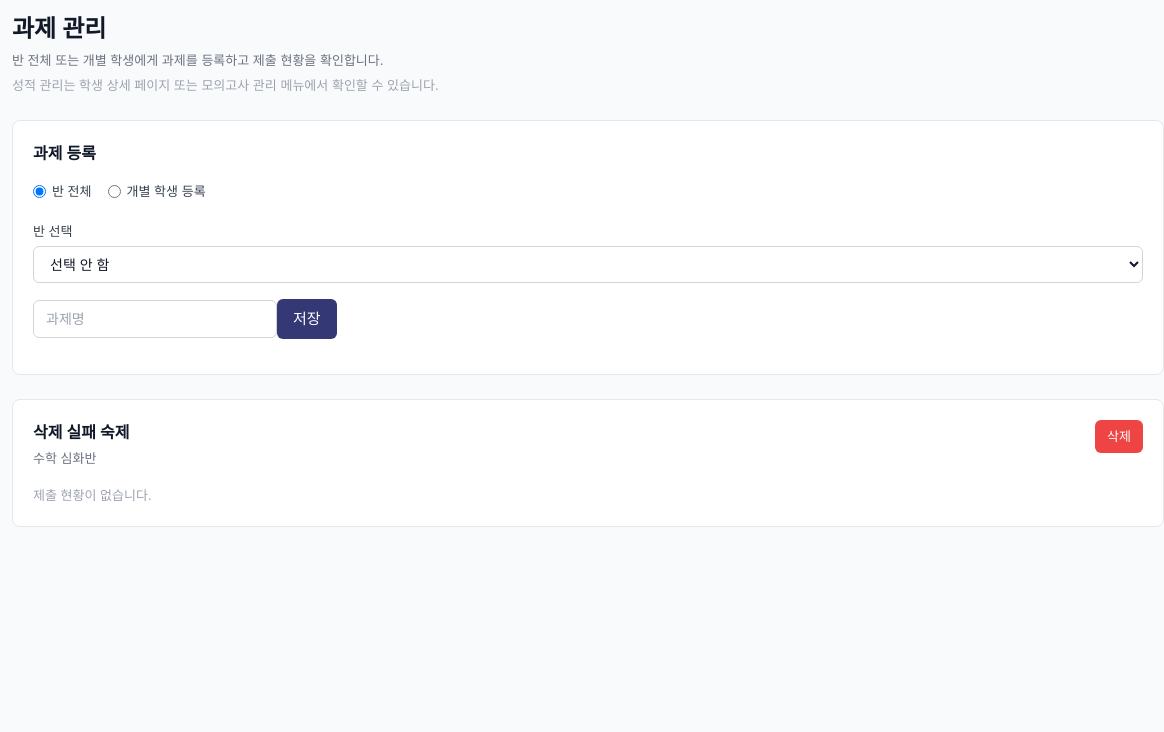
Scenario: 과제 관리 페이지 › apiClient.delete가 실패하면 에러가 표시되고 목록에서 항목이 사라지지 않는다
The image size is (1164, 732).
Expected: the heading "삭제 실패 숙제" is shown, [33,420,129,444]
Click the button "삭제" at (1119, 436), box [1095,420,1143,453]
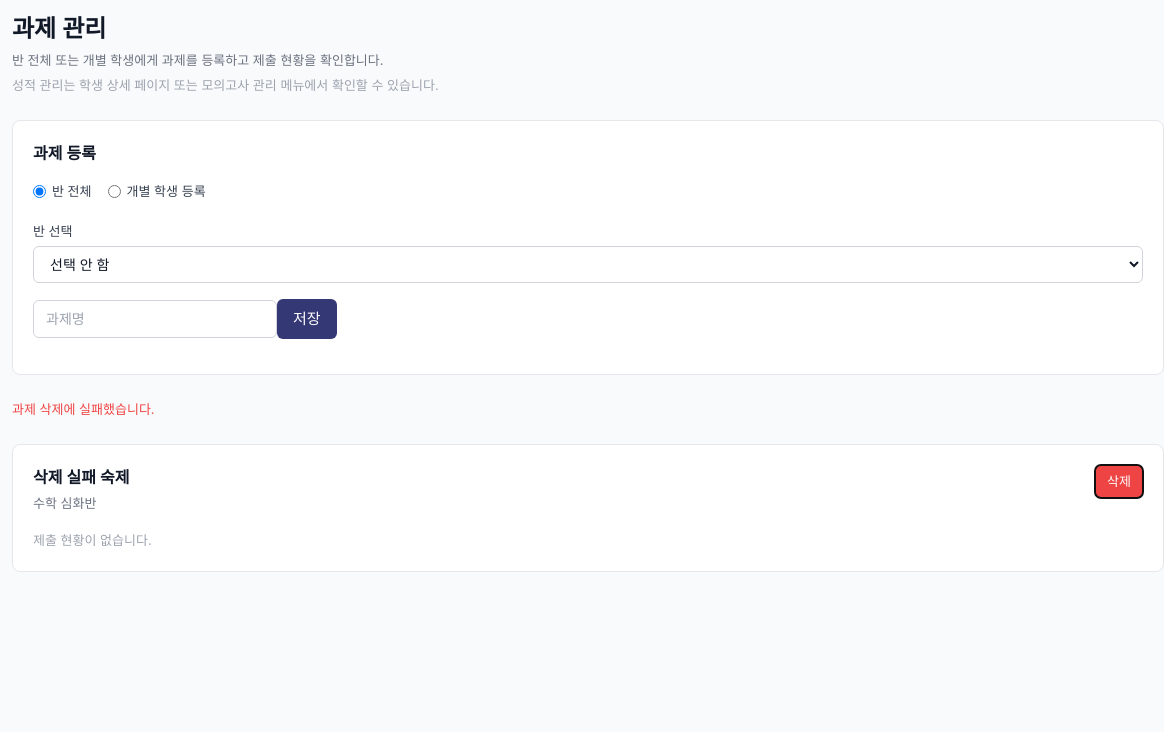
Expected: the heading "삭제 실패 숙제" is shown, [33,465,129,489]
Now the text "과제 삭제에 실패했습니다." is shown, box [12,401,155,417]
